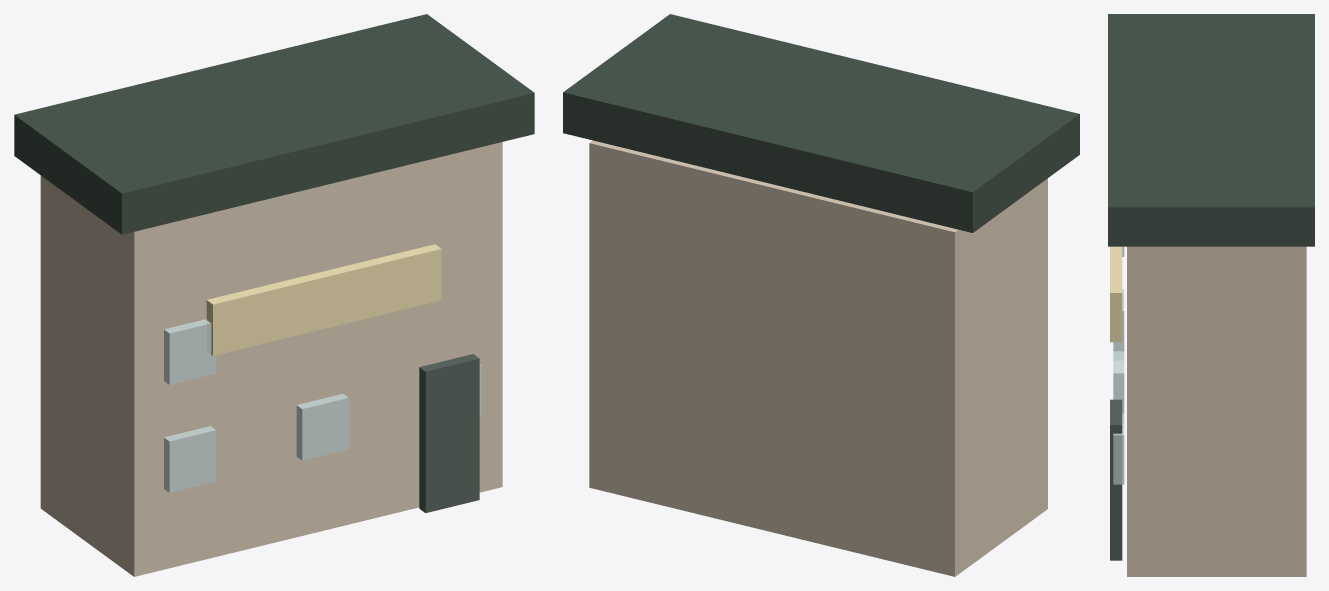
File: residential_market.glb
The picture shows the model from 3 angles, left to right: view 1: azimuth 30°, elevation 25°; view 2: azimuth 150°, elevation 25°; view 3: azimuth 270°, elevation 25°; orthographic projection. The views are drawn at different scales.
Visible parts, largest first — view 1: body, roof, sign, door, window_0, window_1, window_3; view 2: body, roof; view 3: body, roof, door, sign, window_2, window_1, window_0.
Boxes of the visible parts, <box> form: body: <box>40,142,502,576</box>; roof: <box>14,14,534,234</box>; sign: <box>206,244,441,355</box>; door: <box>419,354,479,512</box>; window_0: <box>164,426,216,492</box>; window_1: <box>296,394,348,460</box>; window_3: <box>164,319,216,384</box>; body: <box>589,140,1047,576</box>; roof: <box>563,14,1079,232</box>; body: <box>1127,246,1306,576</box>; roof: <box>1108,14,1314,246</box>; door: <box>1110,399,1122,560</box>; sign: <box>1110,246,1122,342</box>; window_2: <box>1113,413,1124,484</box>; window_1: <box>1113,351,1124,413</box>; window_0: <box>1113,289,1124,351</box>.
Bounding box in the file's own units: 1.68 × 1.54 × 0.76.
